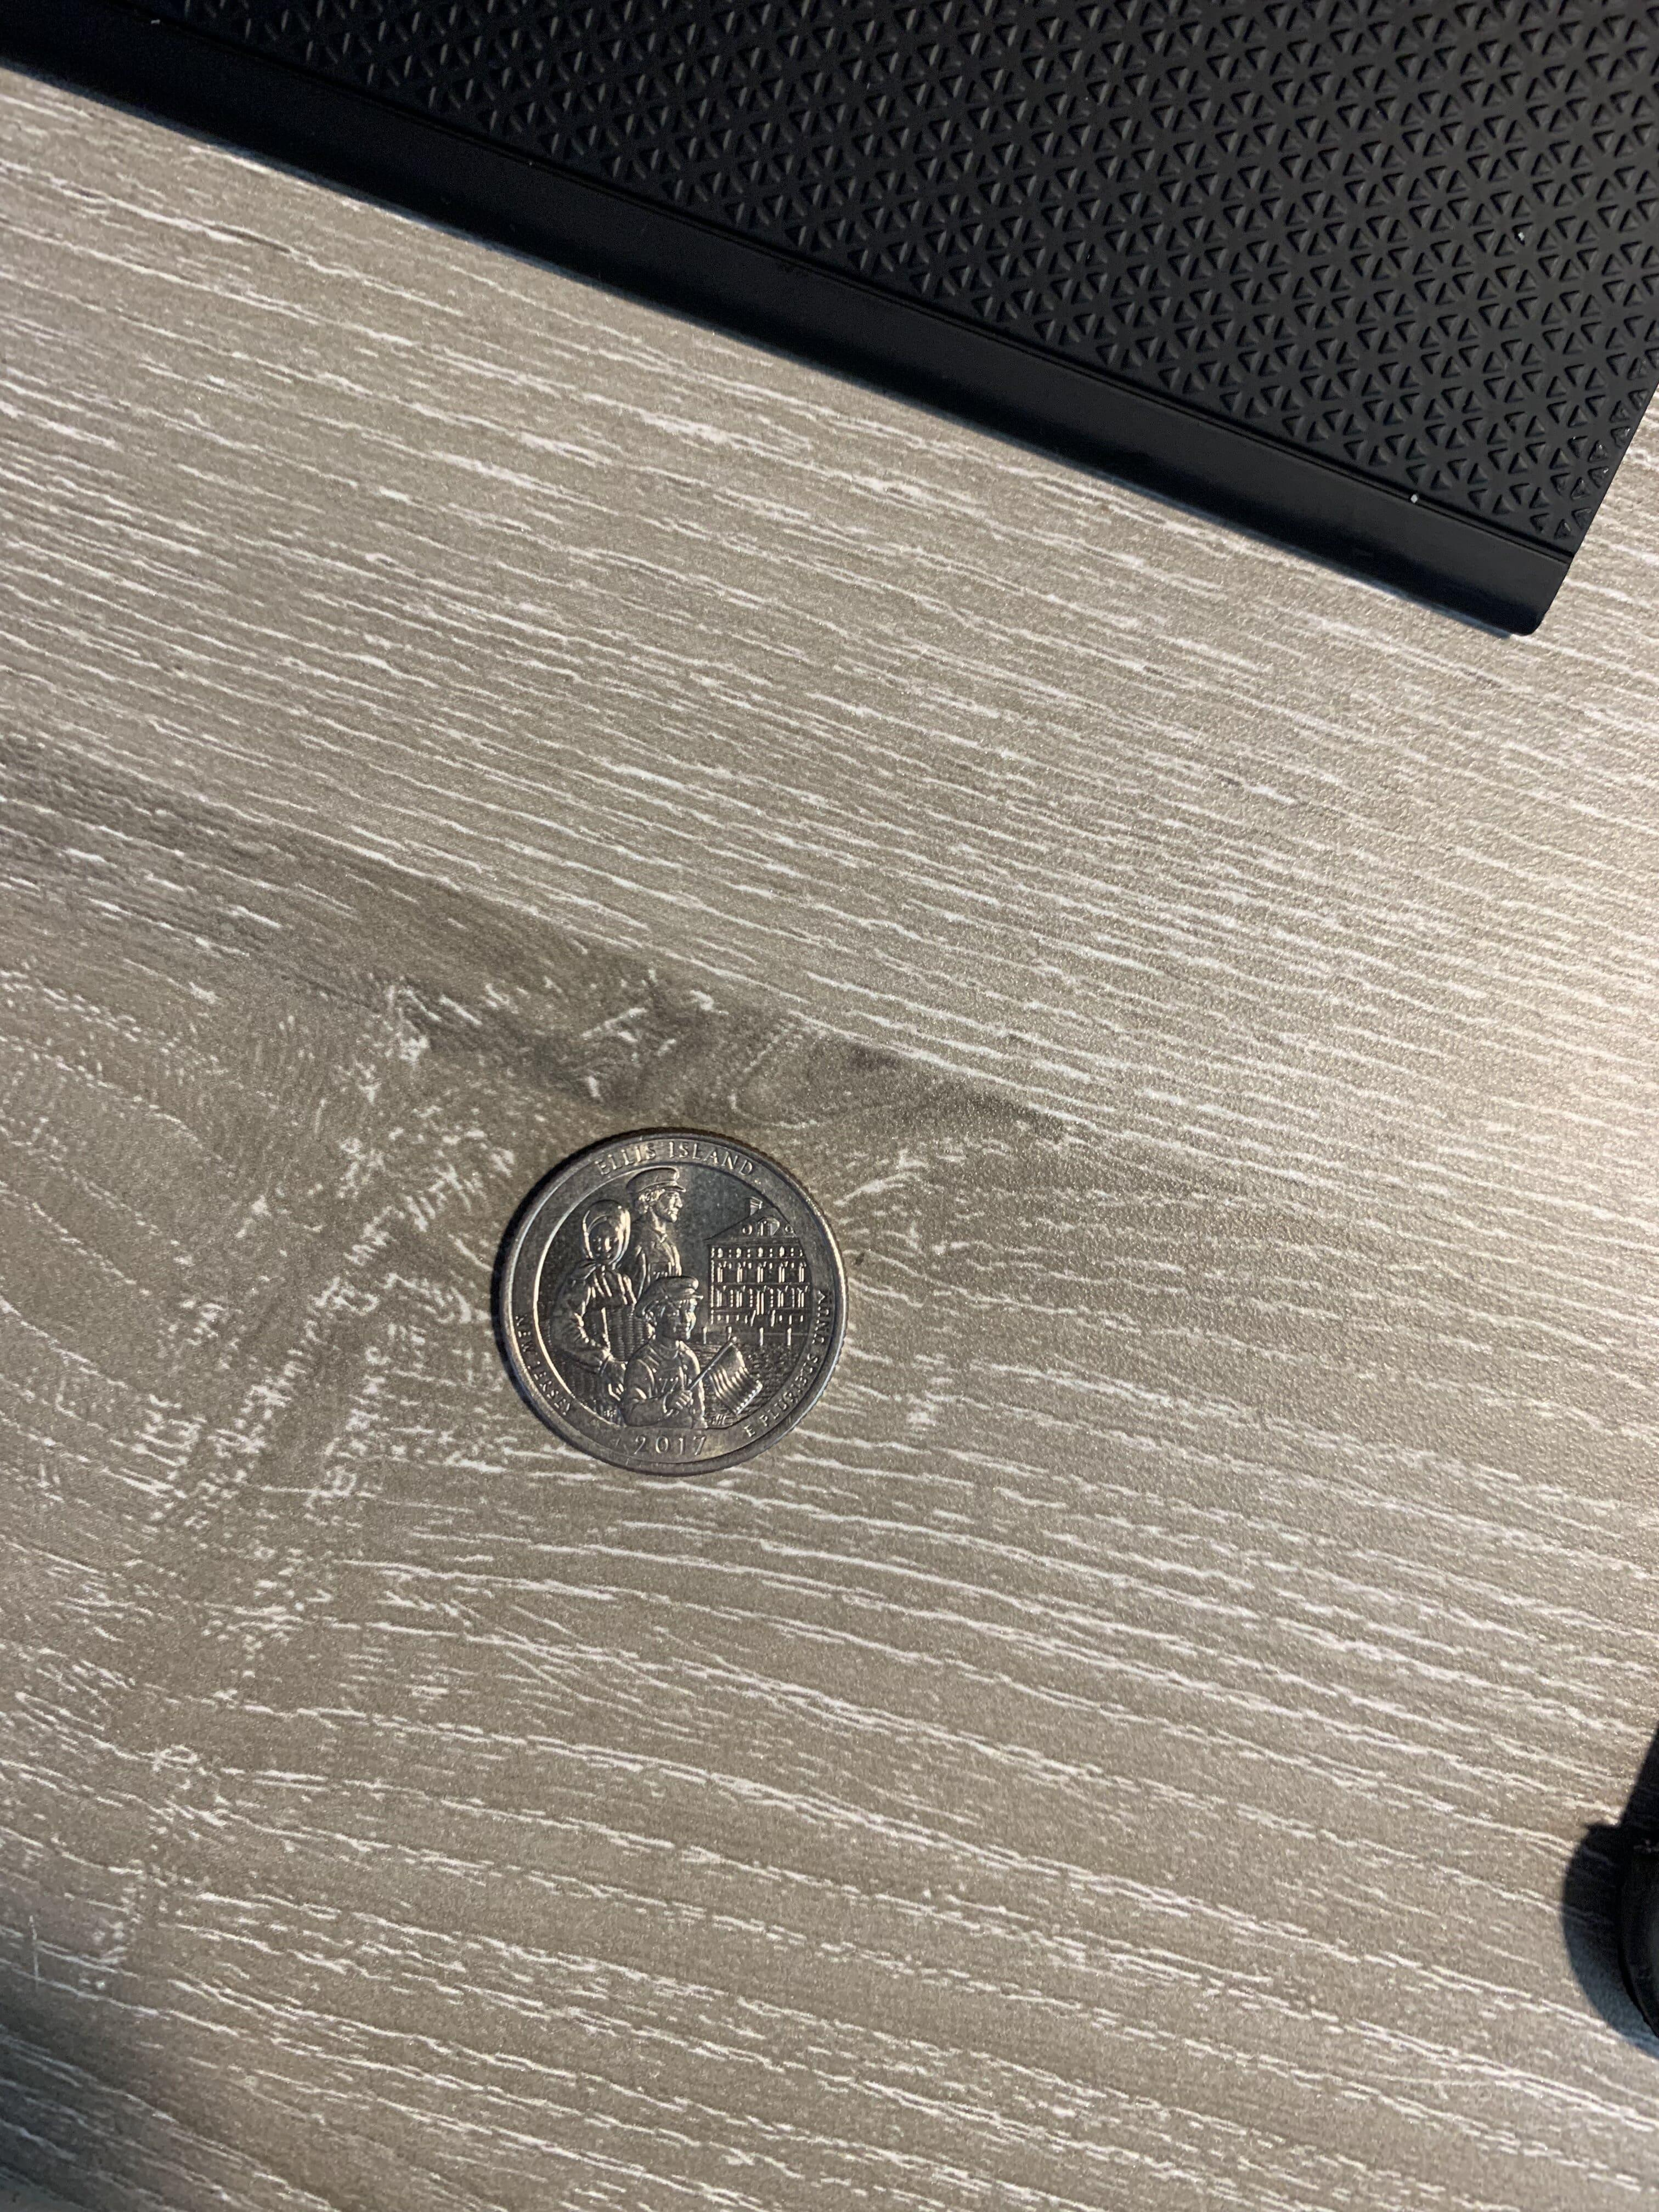Quarter: (450, 1082, 903, 1519)
